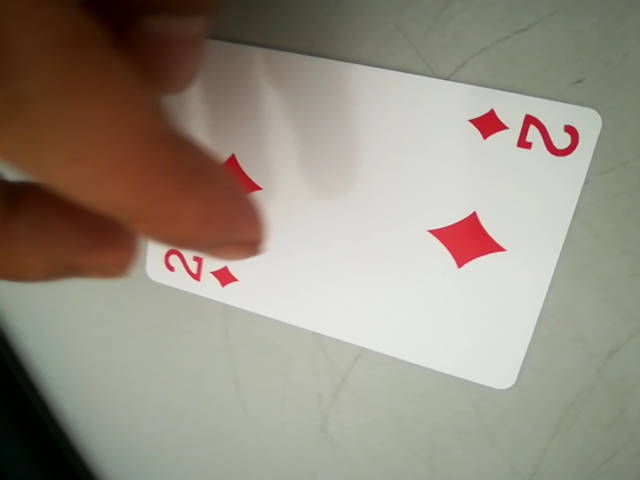fk 2: (461, 102, 584, 164), (151, 243, 247, 295)
